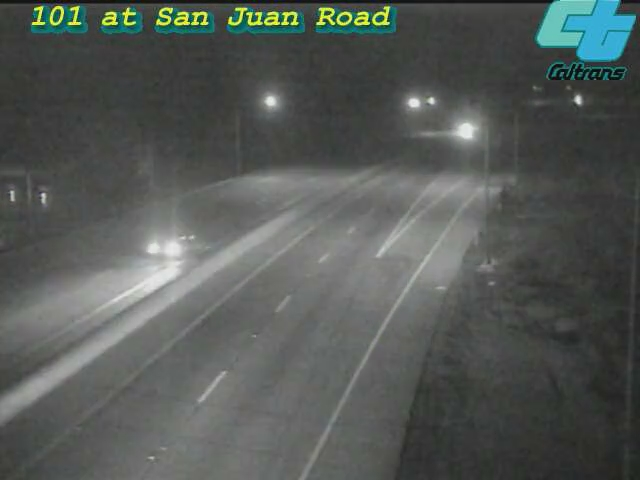vehicle: (124, 206, 204, 286), (444, 105, 494, 155)
